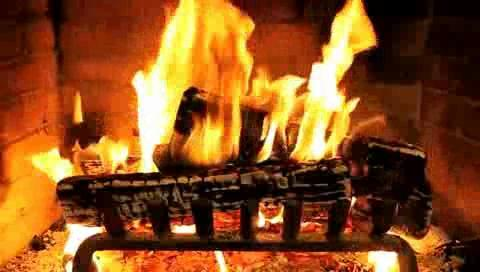fire: (131, 9, 372, 158)
